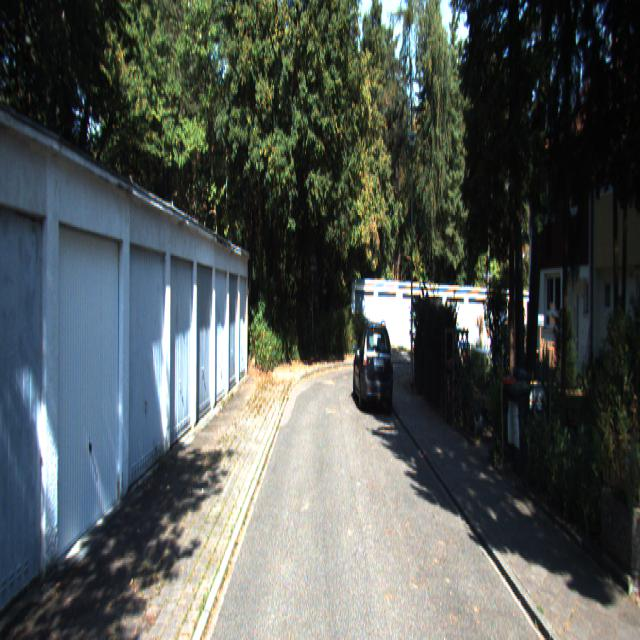Car: (351, 316, 393, 408)
